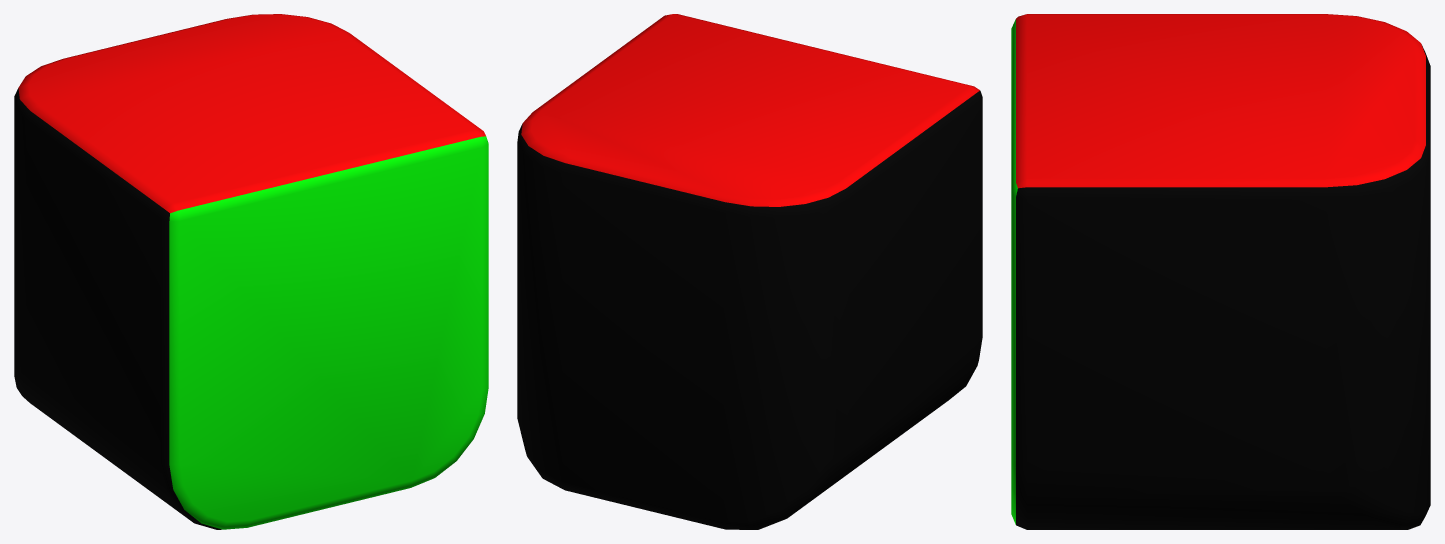
File: edge_piece.obj
The picture shows the model from 3 angles, left to right: view 1: azimuth 30°, elevation 25°; view 2: azimuth 150°, elevation 25°; view 3: azimuth 270°, elevation 25°; orthographic projection. The views are drawn at different scales.
Parts seen in each view (by area): view 1: Cube; view 2: Cube; view 3: Cube.
Boxes of the visible parts, x1,y1,x2,y2 form: Cube: (14,14,488,529); Cube: (517,14,982,529); Cube: (1011,14,1430,529).
Size of the model in its own units: 2 by 2 by 2.
